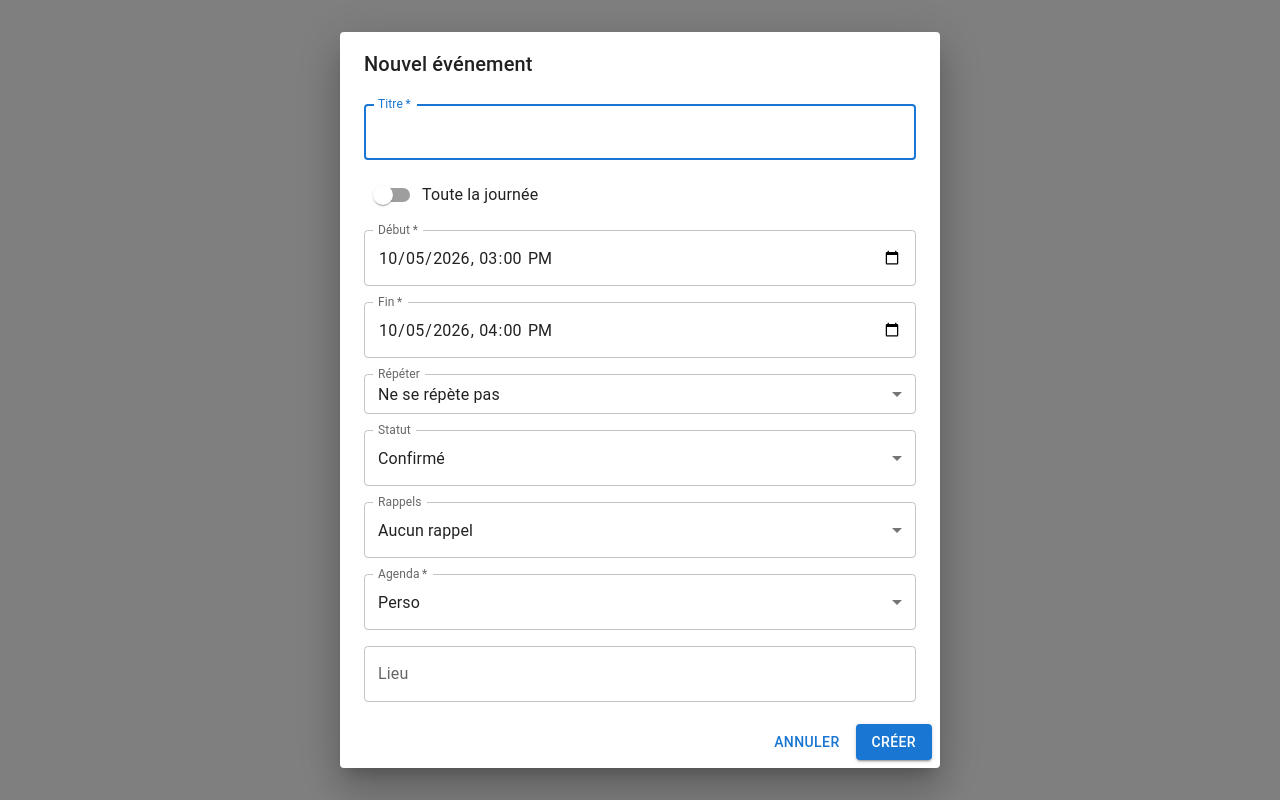
Test: EventCreateDialog › refuses an empty summary
Click the button "Créer".
click(894, 742)  # box [856,724,932,760]
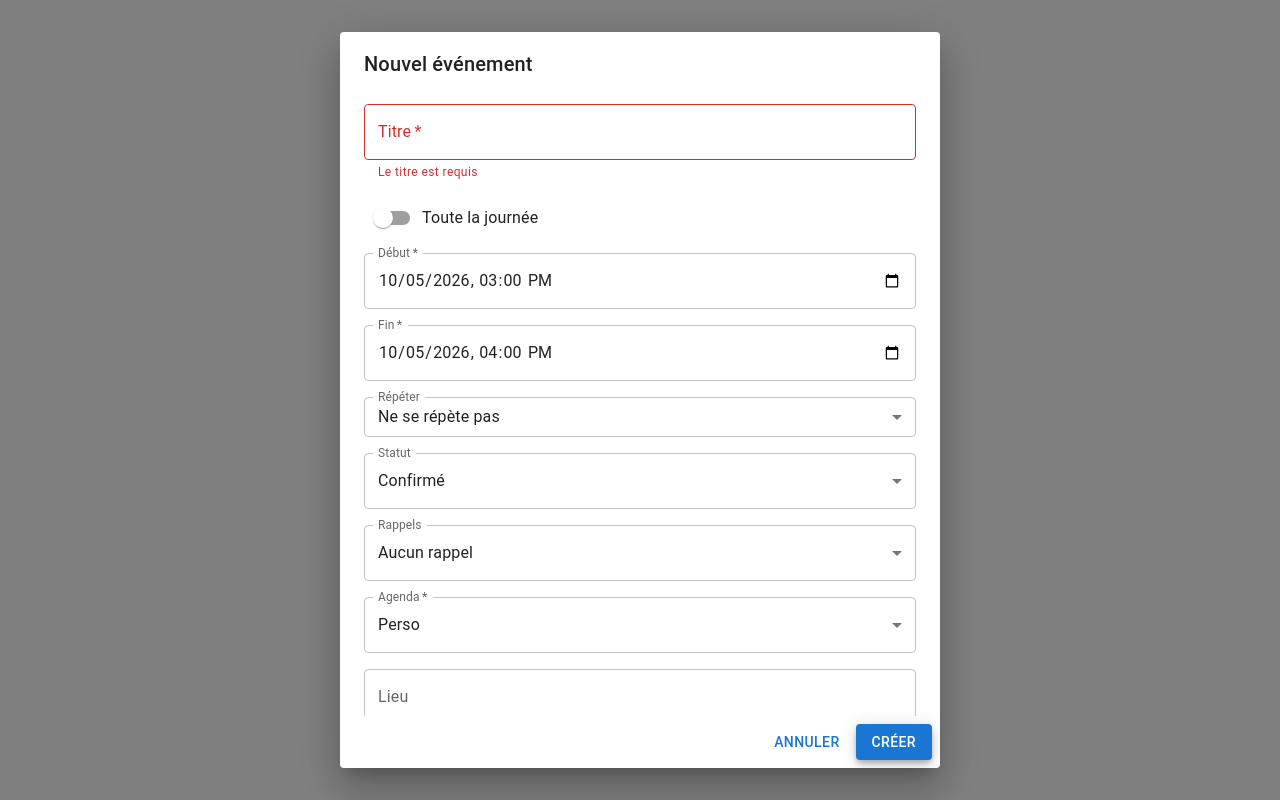
Expected: the text "Le titre est requis" is shown, [378,165,478,179]
